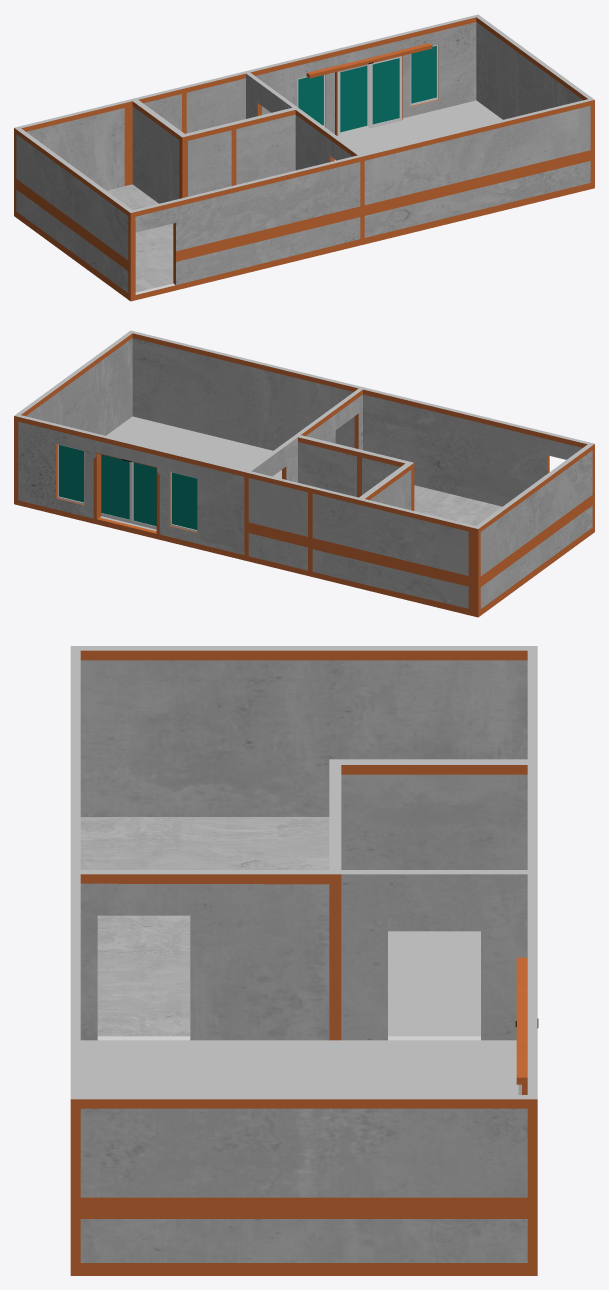
Rendered from shop.fbx.
3 views of the same model, one above another, from view 1: azimuth 30°, elevation 25°; view 2: azimuth 150°, elevation 25°; view 3: azimuth 270°, elevation 25° (orthographic). The views are drawn at different scales.
Visible parts, largest first — view 1: МАГАЗИН, окна, дверь.002, дверь.003; view 2: МАГАЗИН, окна, дверь.003, дверь.002; view 3: МАГАЗИН.
Boxes of the visible parts, <box> form: МАГАЗИН: <box>14,14,594,301</box>; окна: <box>297,44,438,126</box>; дверь.002: <box>337,64,369,136</box>; дверь.003: <box>370,56,401,128</box>; МАГАЗИН: <box>14,330,594,617</box>; окна: <box>57,444,197,531</box>; дверь.003: <box>101,454,131,523</box>; дверь.002: <box>131,462,156,529</box>; МАГАЗИН: <box>70,646,538,1275</box>.
Size of the model in its own units: 21767 by 3960 by 9488.
